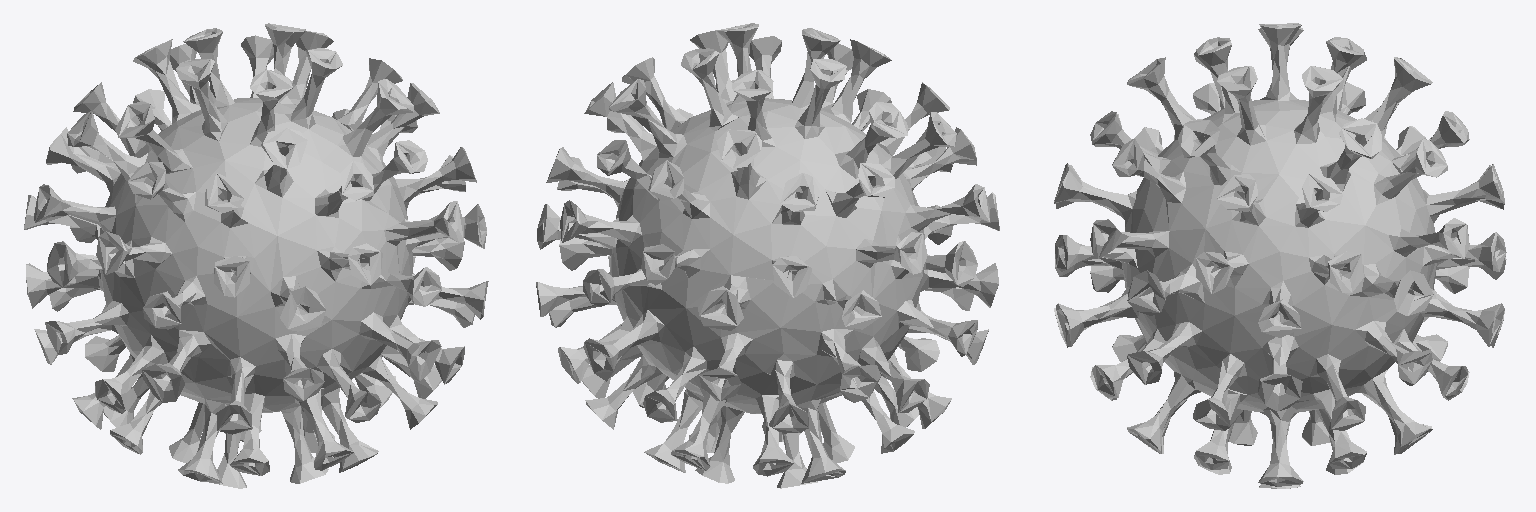
The model's file is covid19.obj.
The picture shows the model from 3 angles: view 1: azimuth 30°, elevation 25°; view 2: azimuth 150°, elevation 25°; view 3: azimuth 270°, elevation 25°; orthographic projection.
Visible parts, largest first — view 1: Icosphere.001; view 2: Icosphere.001; view 3: Icosphere.001.
Part boxes in pixels (left/top/right/bottom): Icosphere.001: left=24, top=23, right=488, bottom=488; Icosphere.001: left=536, top=23, right=999, bottom=488; Icosphere.001: left=1054, top=23, right=1506, bottom=488.
Bounding box in the file's own units: 3.85 × 3.81 × 3.76.